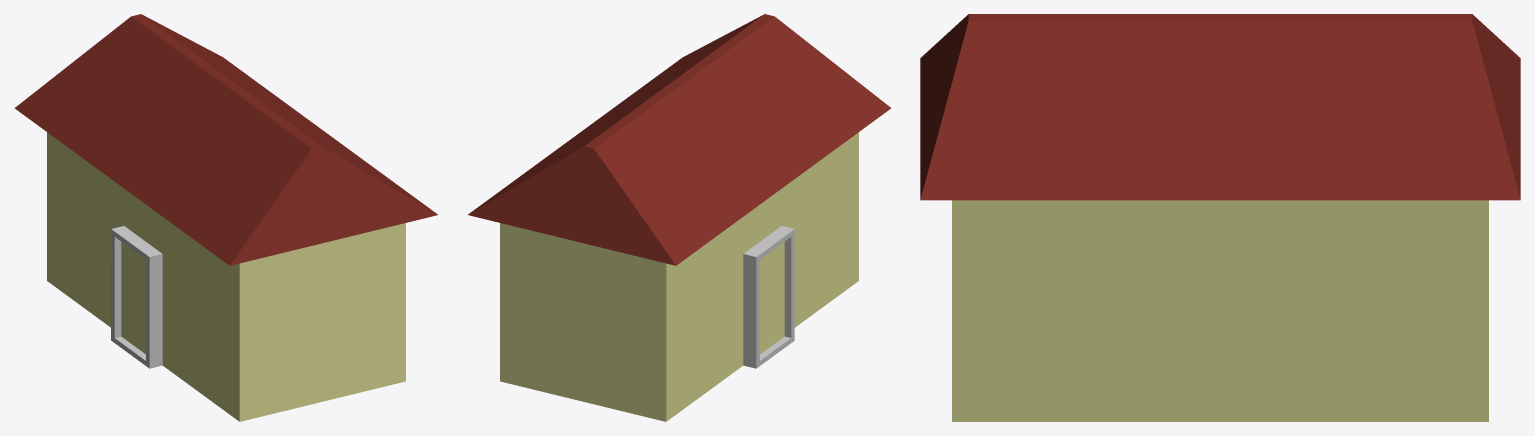
The model's file is house_1.fbx.
The picture shows the model from 3 angles, left to right: view 1: azimuth 30°, elevation 25°; view 2: azimuth 150°, elevation 25°; view 3: azimuth 270°, elevation 25°; orthographic projection. The views are drawn at different scales.
Parts seen in each view (by area): view 1: house_1; view 2: house_1; view 3: house_1.
Boxes of the visible parts, bbox=[...] form: house_1: bbox=[14, 14, 437, 421]; house_1: bbox=[468, 14, 891, 421]; house_1: bbox=[920, 14, 1520, 421].
Size of the model in its own units: 449 by 251 by 287.
